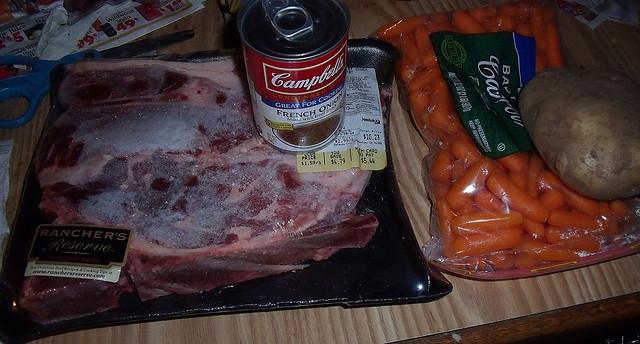carrot: (486, 172, 548, 222), (537, 171, 601, 217), (444, 157, 492, 210), (451, 227, 524, 258), (452, 209, 524, 236), (546, 210, 610, 236), (546, 226, 602, 253), (377, 15, 428, 39), (522, 241, 580, 261), (594, 199, 620, 236), (451, 138, 483, 168), (529, 4, 548, 54), (408, 64, 443, 91), (429, 78, 448, 126), (398, 33, 422, 70), (508, 150, 530, 190), (431, 146, 454, 184), (473, 190, 512, 212), (452, 10, 487, 34), (408, 90, 429, 129), (546, 22, 564, 67), (435, 198, 456, 236), (421, 111, 447, 140), (538, 188, 566, 214), (480, 13, 517, 32), (521, 214, 546, 240), (414, 26, 434, 56), (487, 249, 515, 270), (496, 153, 526, 172), (400, 52, 417, 82), (432, 176, 452, 199), (514, 253, 544, 268), (452, 160, 468, 188), (608, 198, 628, 220), (427, 22, 461, 34), (529, 153, 544, 179), (468, 7, 488, 26), (515, 2, 530, 24), (421, 50, 439, 68), (430, 11, 452, 25), (516, 22, 534, 38), (542, 5, 556, 24), (535, 49, 545, 75), (448, 123, 462, 136), (486, 6, 498, 18)
potato: (518, 67, 640, 200)
